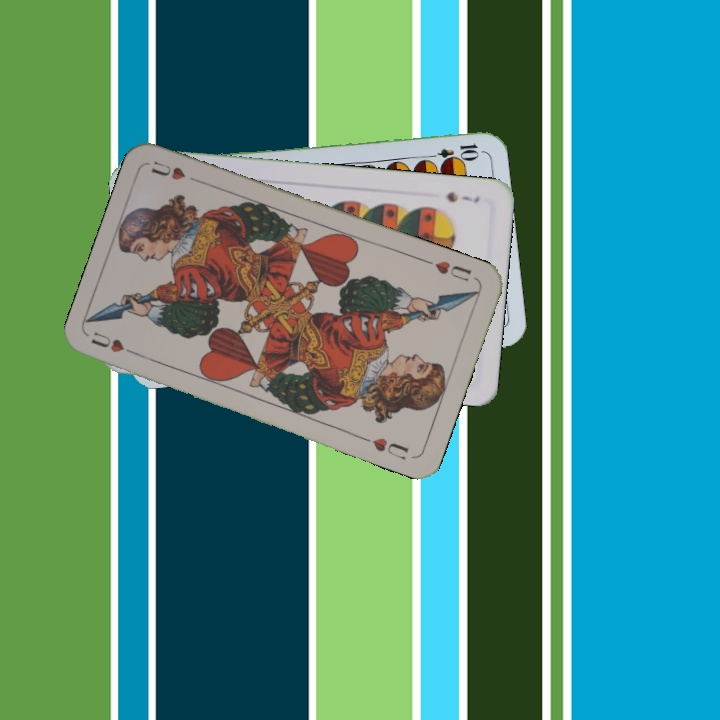E10: (422, 140, 481, 163)
HU: (87, 327, 143, 360), (421, 256, 474, 284)
S7: (442, 188, 482, 206)
